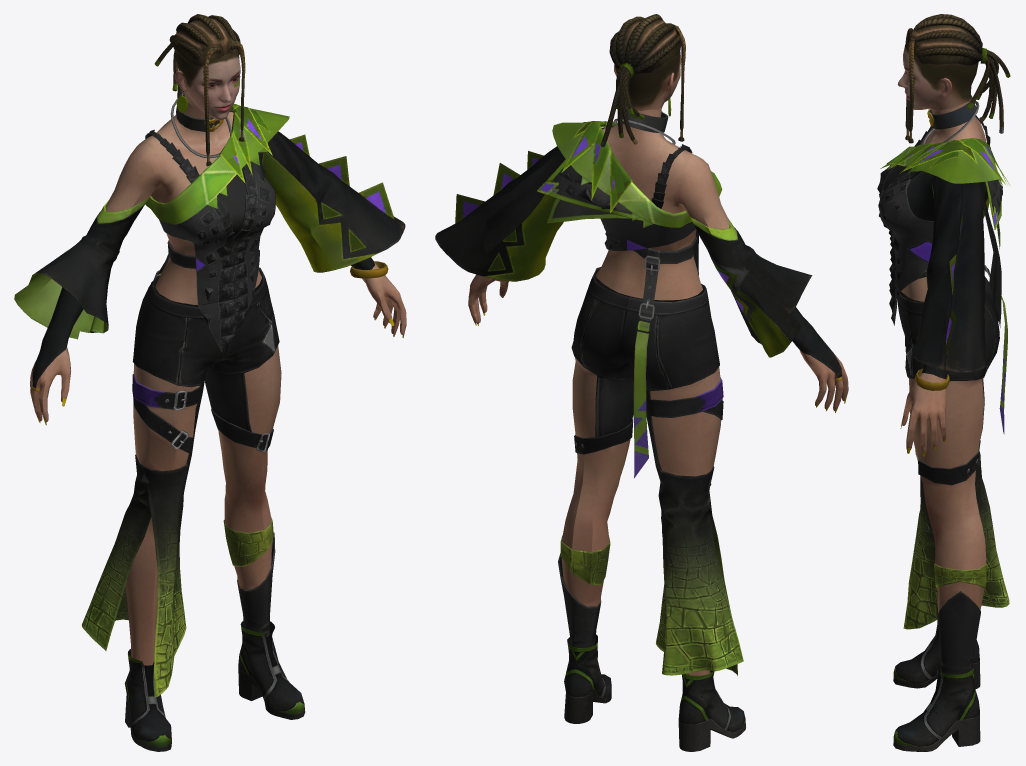
File: croctamer.fbx
3 renders of one model, left to right at view 1: azimuth 30°, elevation 25°; view 2: azimuth 150°, elevation 25°; view 3: azimuth 270°, elevation 25°, orthographic.
Parts seen in each view (by area): view 1: Object_4, Object_5, Object_2, Object_8, Object_3, Object_6; view 2: Object_4, Object_2, Object_5, Object_8, Object_3, Object_6; view 3: Object_5, Object_2, Object_4, Object_3, Object_6, Object_8.
Part boxes in pixels (x1=…): Object_4: x1=82, y1=267, x2=279, y2=697; Object_5: x1=14, y1=92, x2=405, y2=425; Object_2: x1=30, y1=52, x2=406, y2=665; Object_8: x1=159, y1=103, x2=394, y2=351; Object_3: x1=124, y1=621, x2=305, y2=751; Object_6: x1=154, y1=14, x2=245, y2=166; Object_4: x1=558, y1=267, x2=743, y2=675; Object_2: x1=468, y1=51, x2=848, y2=675; Object_5: x1=435, y1=108, x2=846, y2=478; Object_8: x1=455, y1=121, x2=790, y2=357; Object_3: x1=564, y1=634, x2=745, y2=751; Object_6: x1=600, y1=14, x2=685, y2=147; Object_5: x1=877, y1=95, x2=1007, y2=456; Object_2: x1=897, y1=41, x2=986, y2=613; Object_4: x1=897, y1=276, x2=1009, y2=674; Object_3: x1=893, y1=620, x2=980, y2=751; Object_6: x1=905, y1=14, x2=1010, y2=143; Object_8: x1=878, y1=138, x2=1010, y2=356.
Bounding box in the file's own units: 51.28 × 88.72 × 15.57.
Materials: 7 (7 with a texture image).
